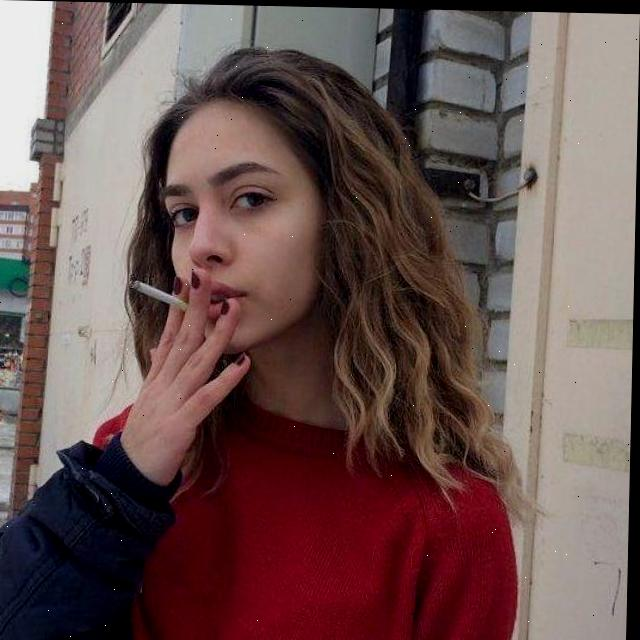cigarette: (131, 278, 193, 314)
